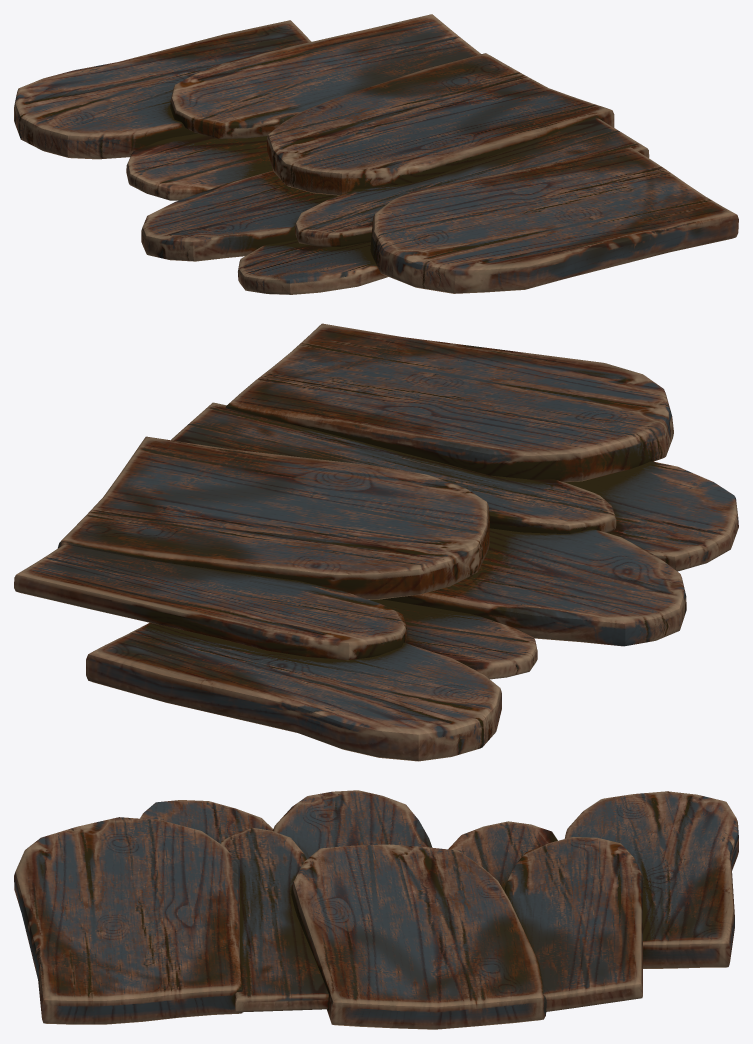
Rendered from SM_ShingleShort.fbx.
The picture shows the model from 3 angles, top to bottom: view 1: azimuth 30°, elevation 25°; view 2: azimuth 150°, elevation 25°; view 3: azimuth 270°, elevation 25°; orthographic projection. The views are drawn at different scales.
Visible parts, largest first — view 1: SM_ShingleShort_LOD0; view 2: SM_ShingleShort_LOD0; view 3: SM_ShingleShort_LOD0.
Boxes of the visible parts, box(x1,y1,x2,y2) form: SM_ShingleShort_LOD0: box(14, 14, 738, 294); SM_ShingleShort_LOD0: box(14, 323, 738, 761); SM_ShingleShort_LOD0: box(14, 790, 738, 1029).
Size of the model in its own units: 629 by 809 by 96.58.
1 material, 1 textured.
